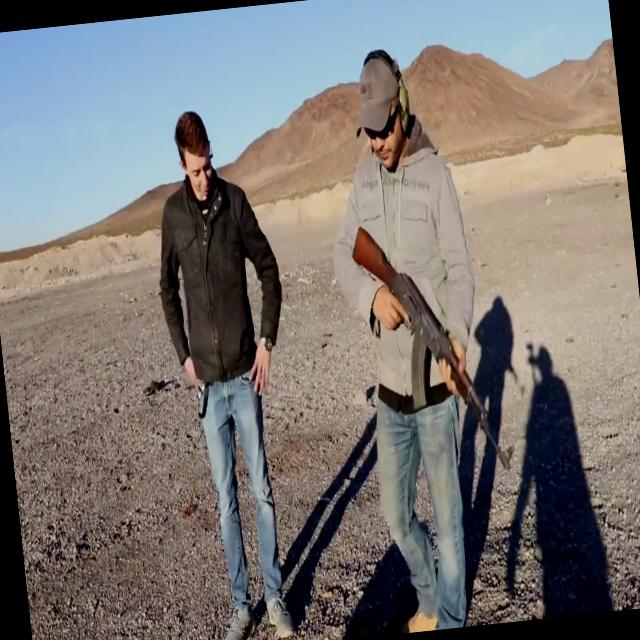long weapon: (348, 190, 518, 492)
